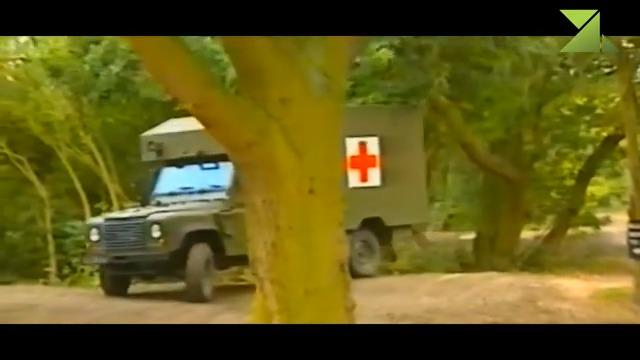MIL_HMMWV: (82, 104, 430, 302)
